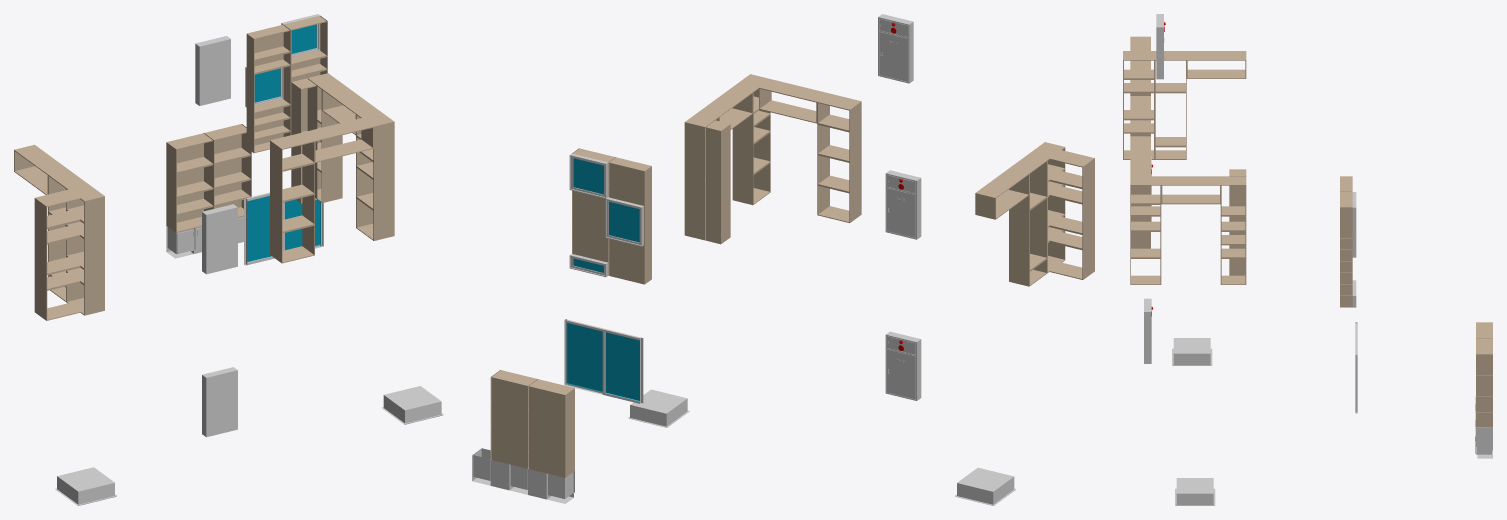
3 renders of one model, left to right at view 1: azimuth 30°, elevation 25°; view 2: azimuth 150°, elevation 25°; view 3: azimuth 270°, elevation 25°, orthographic. The views are drawn at different scales.
Bounding box in the file's own units: 10.06 × 10 × 8.71.
